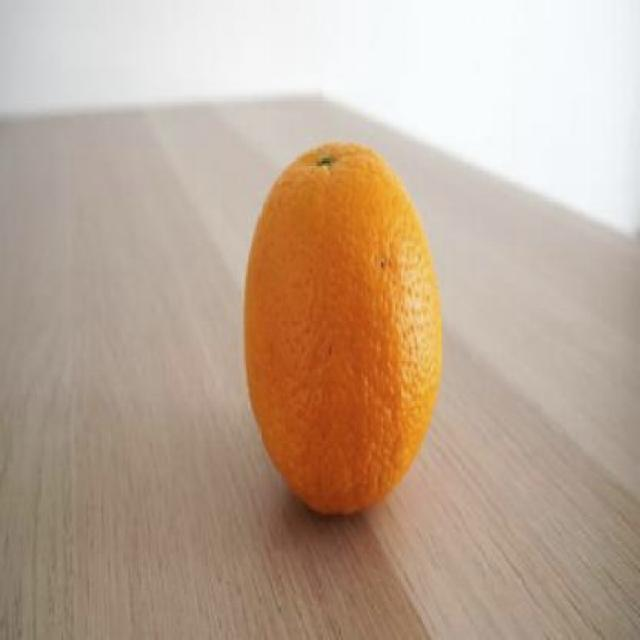Jeruk Sudah Matang: (244, 140, 444, 514)
